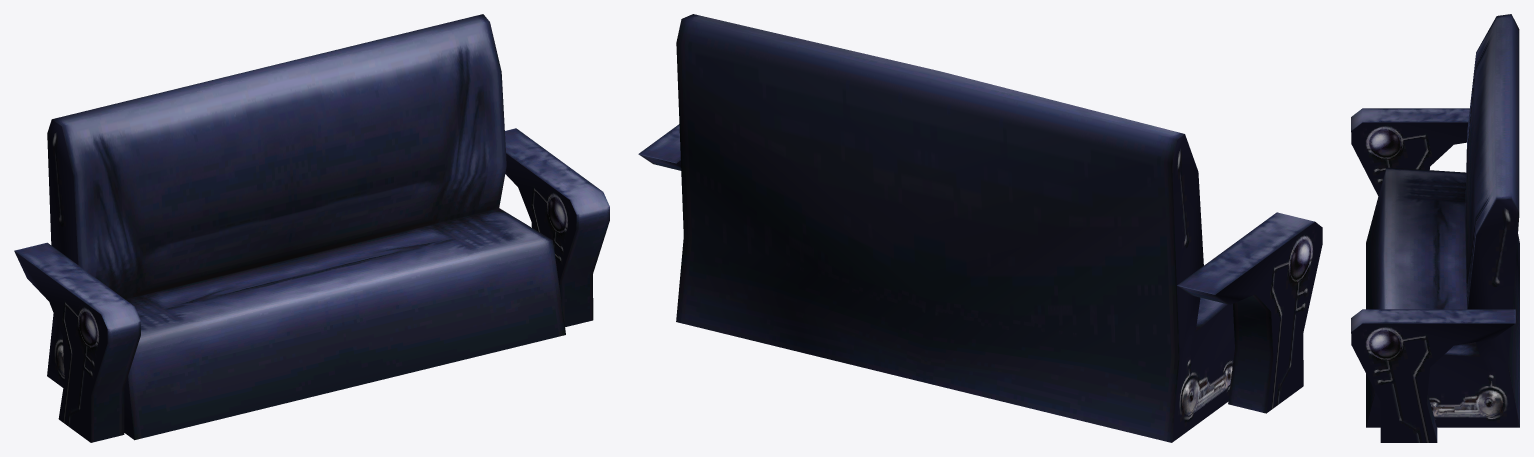
The model's file is frn_all_couch_lg_s2_l1.fbx.
The picture shows the model from 3 angles, left to right: view 1: azimuth 30°, elevation 25°; view 2: azimuth 150°, elevation 25°; view 3: azimuth 270°, elevation 25°; orthographic projection. The views are drawn at different scales.
Parts seen in each view (by area): view 1: mesh_node; view 2: mesh_node; view 3: mesh_node.
Boxes of the visible parts, box(x1,y1,x2,y2) form: mesh_node: box(14, 14, 609, 442); mesh_node: box(638, 14, 1322, 442); mesh_node: box(1351, 14, 1519, 442).
Size of the model in its own units: 2.4 by 1.19 by 0.7955.
